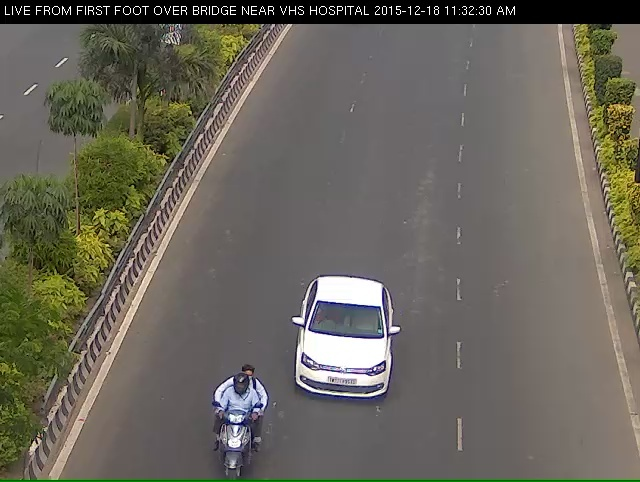Car: (291, 297, 414, 437)
Person: (200, 391, 266, 482)
